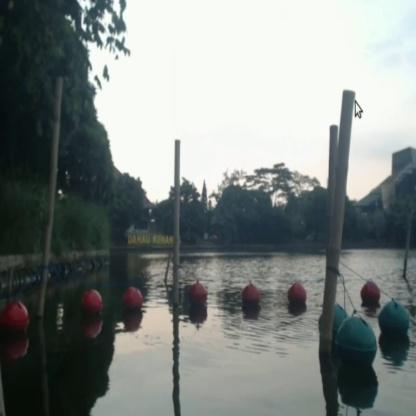green_buoy: (334, 318, 378, 378), (378, 300, 409, 347)
red_buoy: (1, 300, 29, 344), (188, 282, 207, 314), (360, 280, 380, 310), (84, 290, 102, 322), (287, 282, 306, 310), (241, 284, 260, 312), (122, 288, 140, 316)
